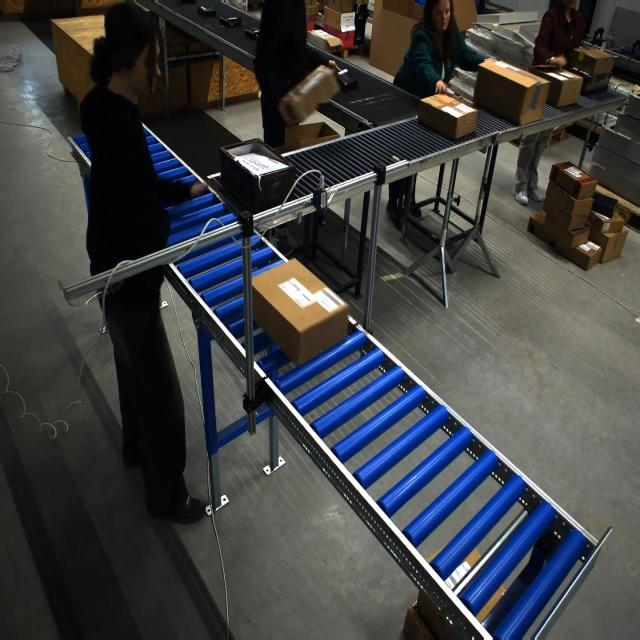box: (251, 257, 342, 365), (476, 53, 549, 135), (223, 140, 292, 204), (285, 66, 336, 124), (418, 92, 478, 141)
product: (336, 68, 358, 89), (219, 16, 241, 27), (197, 5, 217, 17), (244, 28, 260, 41), (177, 0, 196, 5)
